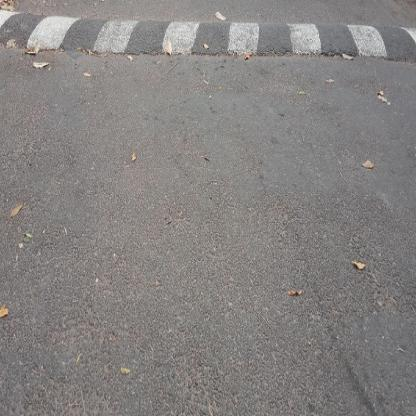speed-bumps: (0, 0, 415, 89)
